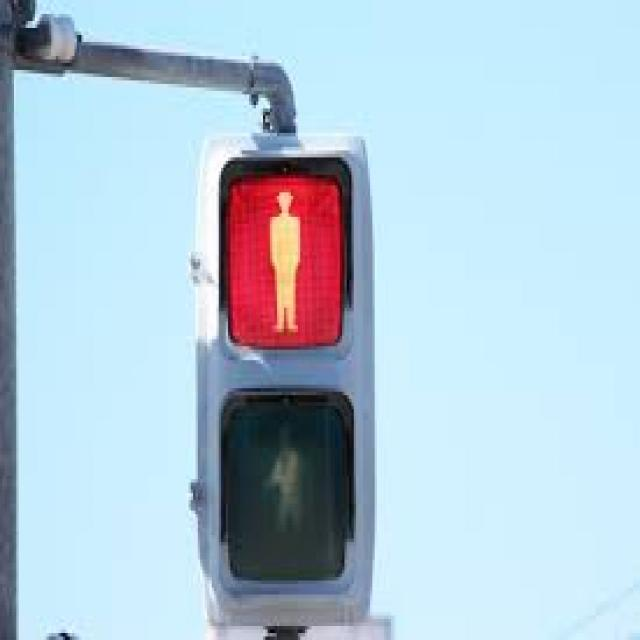trafficlight: (184, 130, 375, 622)
